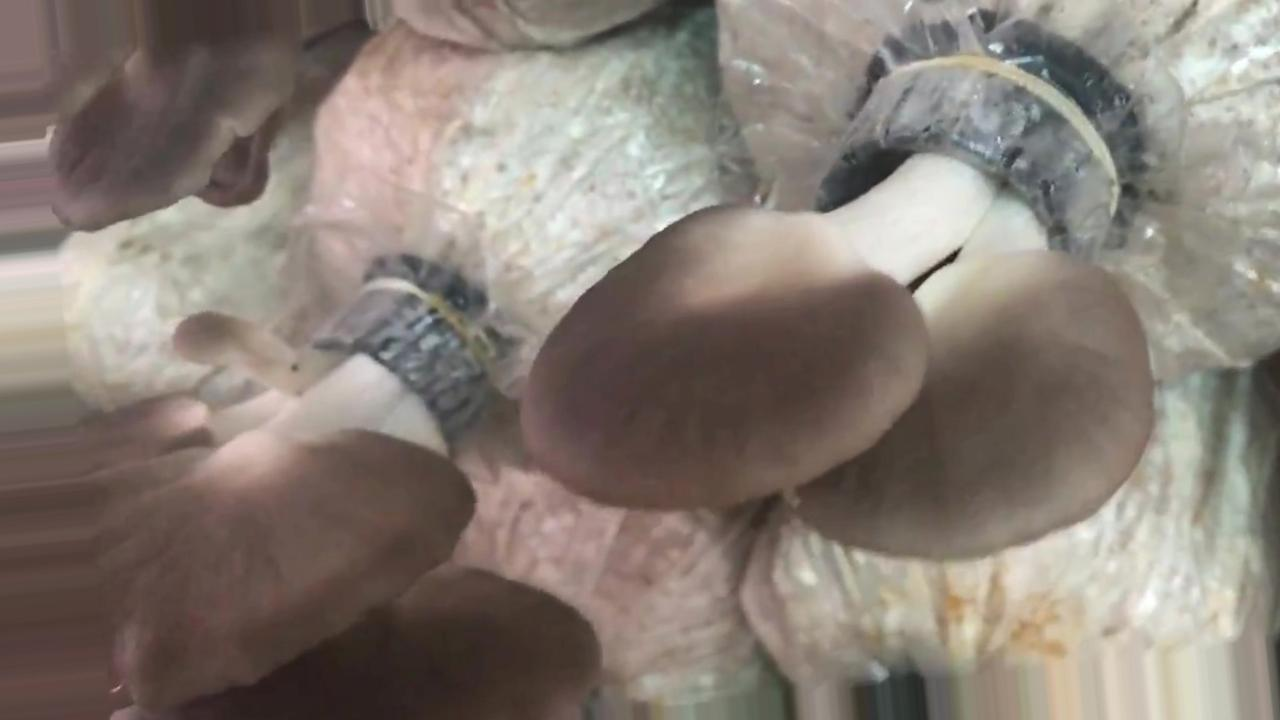nam: (521, 42, 1157, 562), (1, 281, 602, 720), (51, 1, 306, 232)
